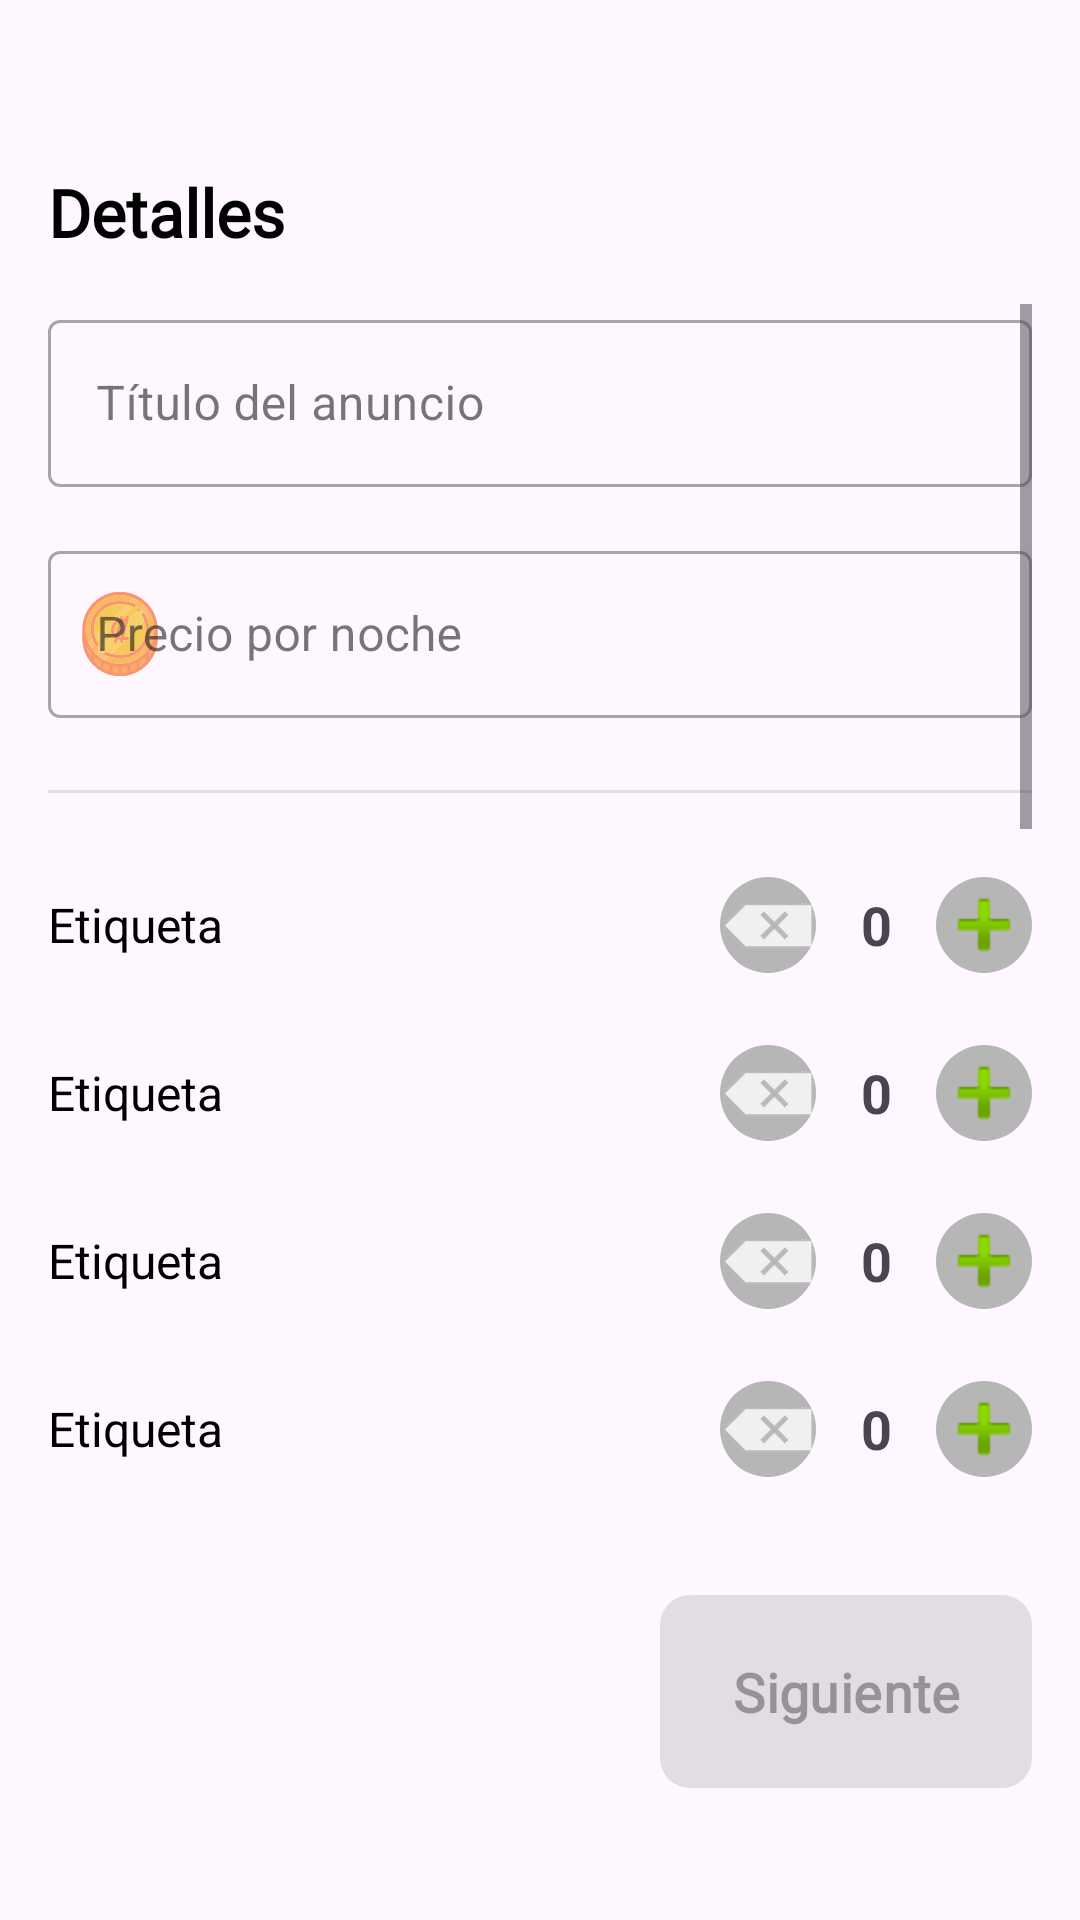

Icon click points for this 1080 x 1920 phone screenshot, format (x,y):
add: (984,925), (984,1093), (984,1261), (984,1429)
delete: (768,925), (768,1093), (768,1261), (768,1429)
